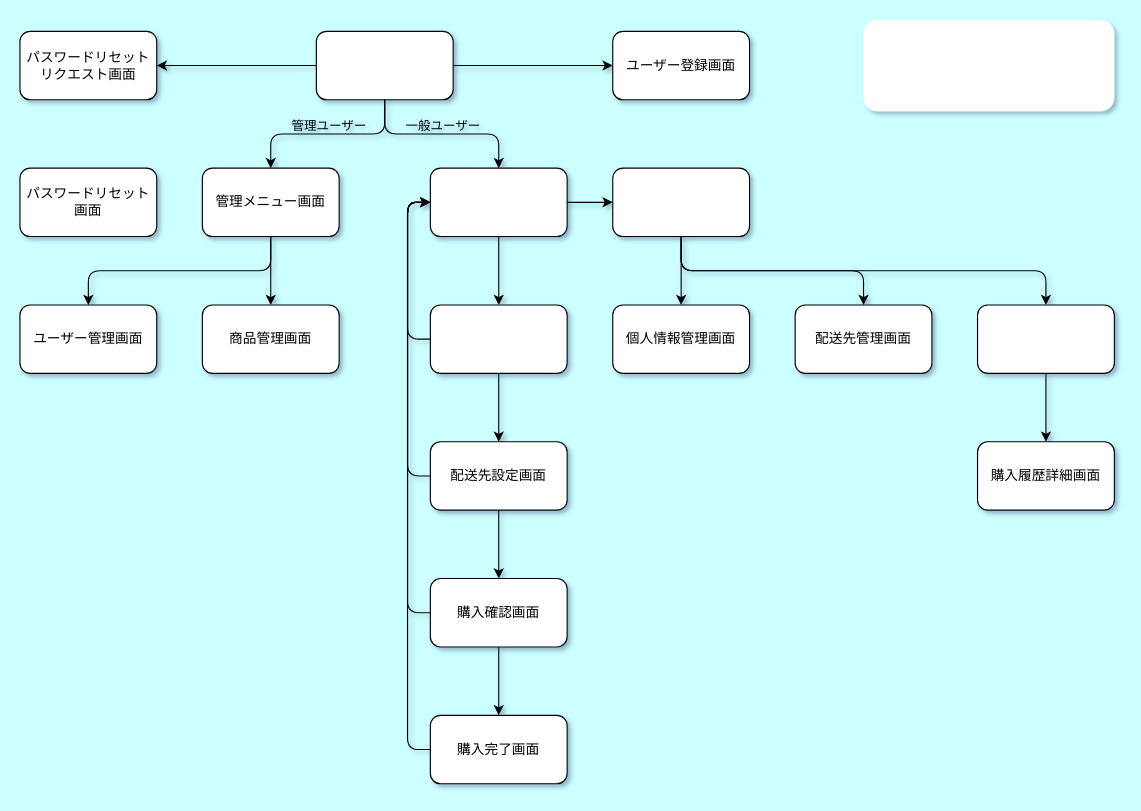
The diagram is 1141 pixels wide and 811 high, and some of its shapes have lost their labels. Here are the shapes that lost their labels. From the top down, the centre of each, then its label:
the point at 384,65: ログイン画面
the point at 988,65: 会員制ECサイト 画面遷移図
the point at 498,202: 商品一覧画面
the point at 681,202: マイページ画面
the point at 498,338: カート画面
the point at 1045,338: 購入履歴画面
